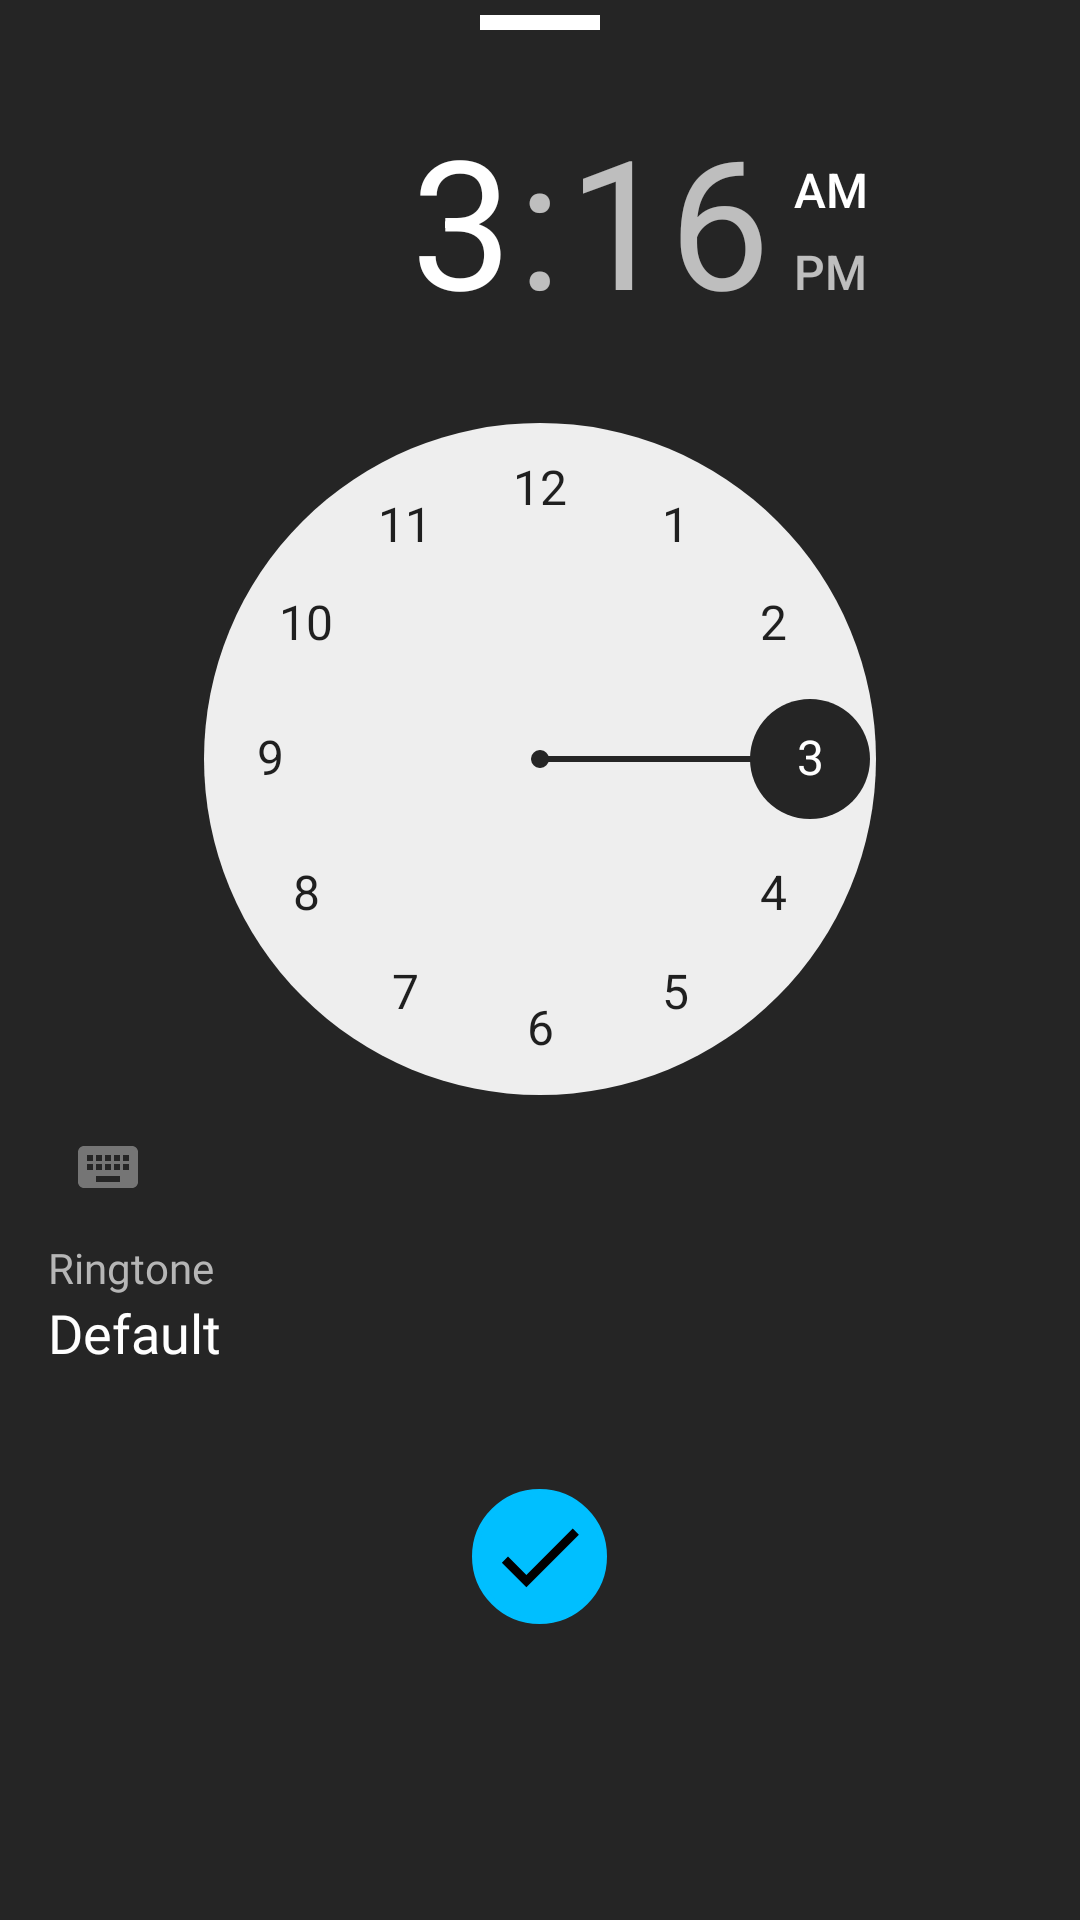

Icons on this 1080×1920 Android screen, each with its box as (left=x1, top=y1, right=x2, bottom=y2):
done: (left=472, top=1489, right=607, bottom=1624)
